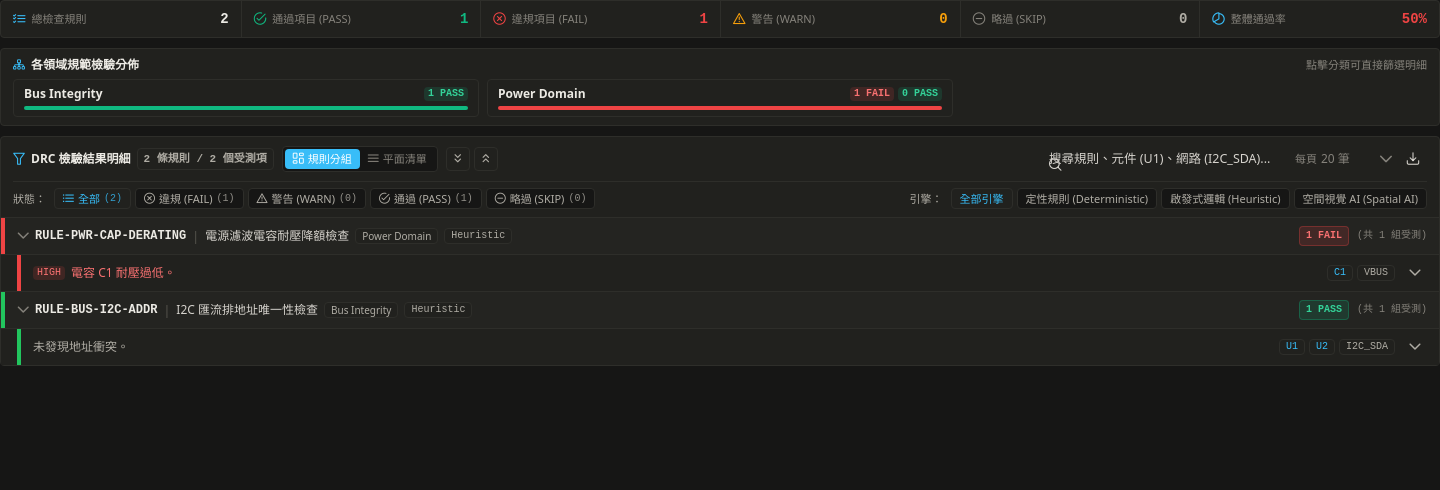
Test: TaskReportDashboard.vue › 點擊查看詳情能展開佐證資訊
Step 1. Click the button with class "expand-btn" next to "VBUS" → (1415, 273), box [1403,261,1427,285]
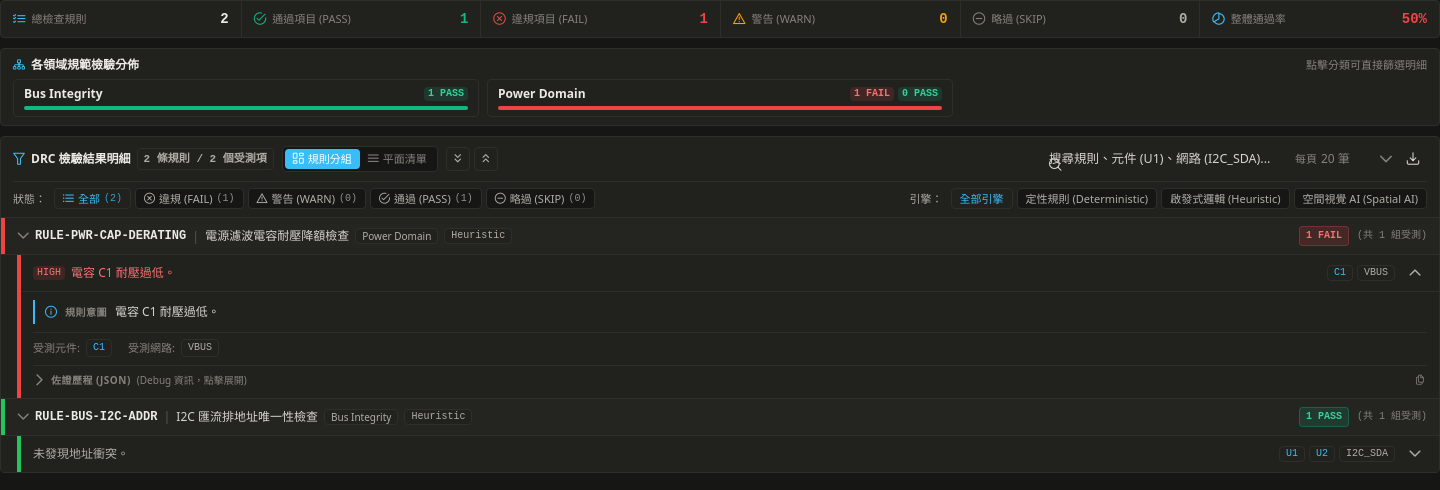
Check: the element with class "evidence-details-block" is shown, box [21,291,1439,398]
